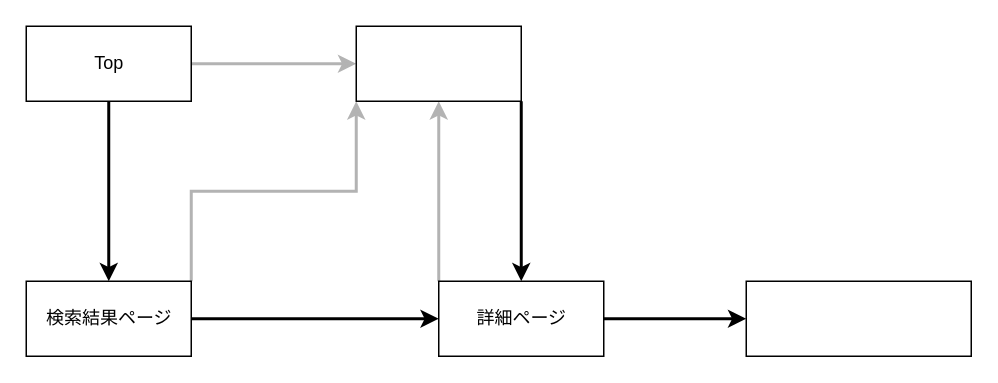
The diagram is 998 pixels wide and 383 high, and some of its shapes have lost their labels. The centre of each missing label's shape, as x and y in pixels:
データ投稿・編集ページ: pixel 858 318
マイページ: pixel 438 63
